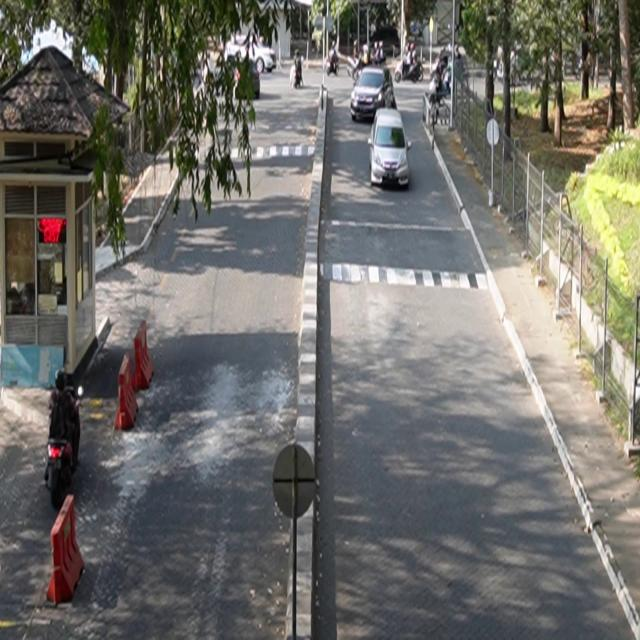car: (368, 108, 413, 190), (351, 67, 396, 122)
